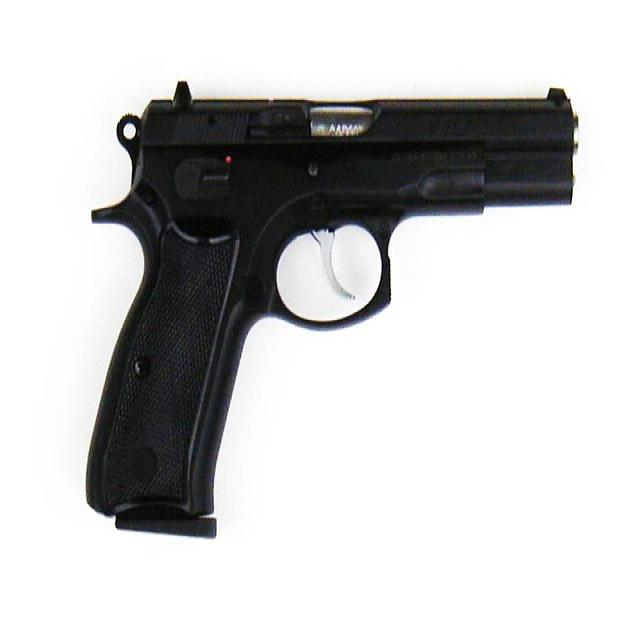HandGun: (85, 85, 579, 543)
